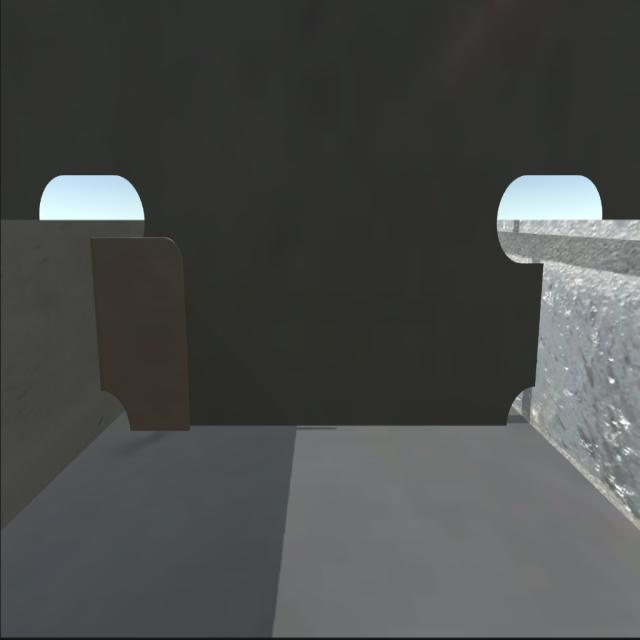fillet_hole: (99, 384, 132, 436), (505, 377, 539, 422)
fillet_yong_jeop_jang: (133, 421, 510, 435)
longi_yong_jeop_jang: (84, 236, 106, 390), (533, 258, 548, 387)
plate_CP05: (88, 230, 190, 434)
